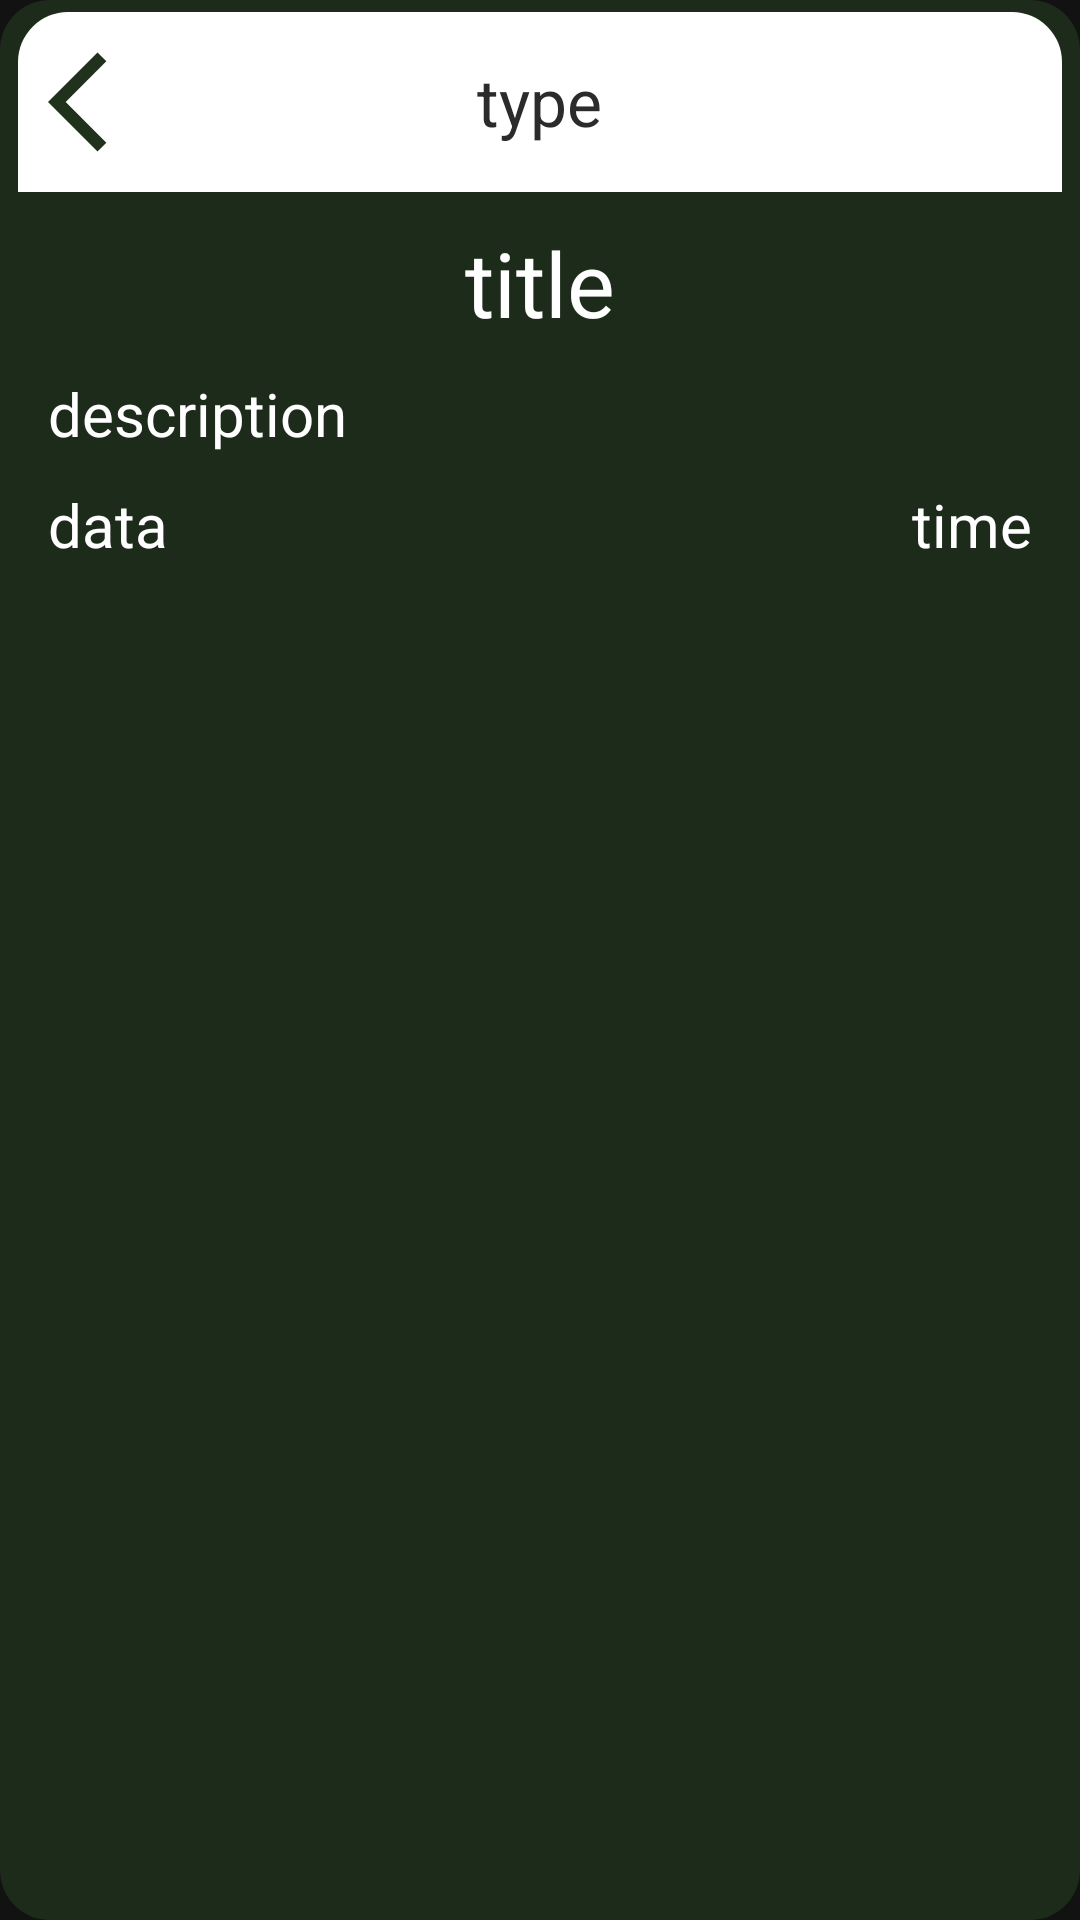

Locate icon controls on the screen. Image size 1080×1920, boxes as bbox=(x1, y1, x2, y2).
arrow back: bbox=(48, 52, 106, 152)
